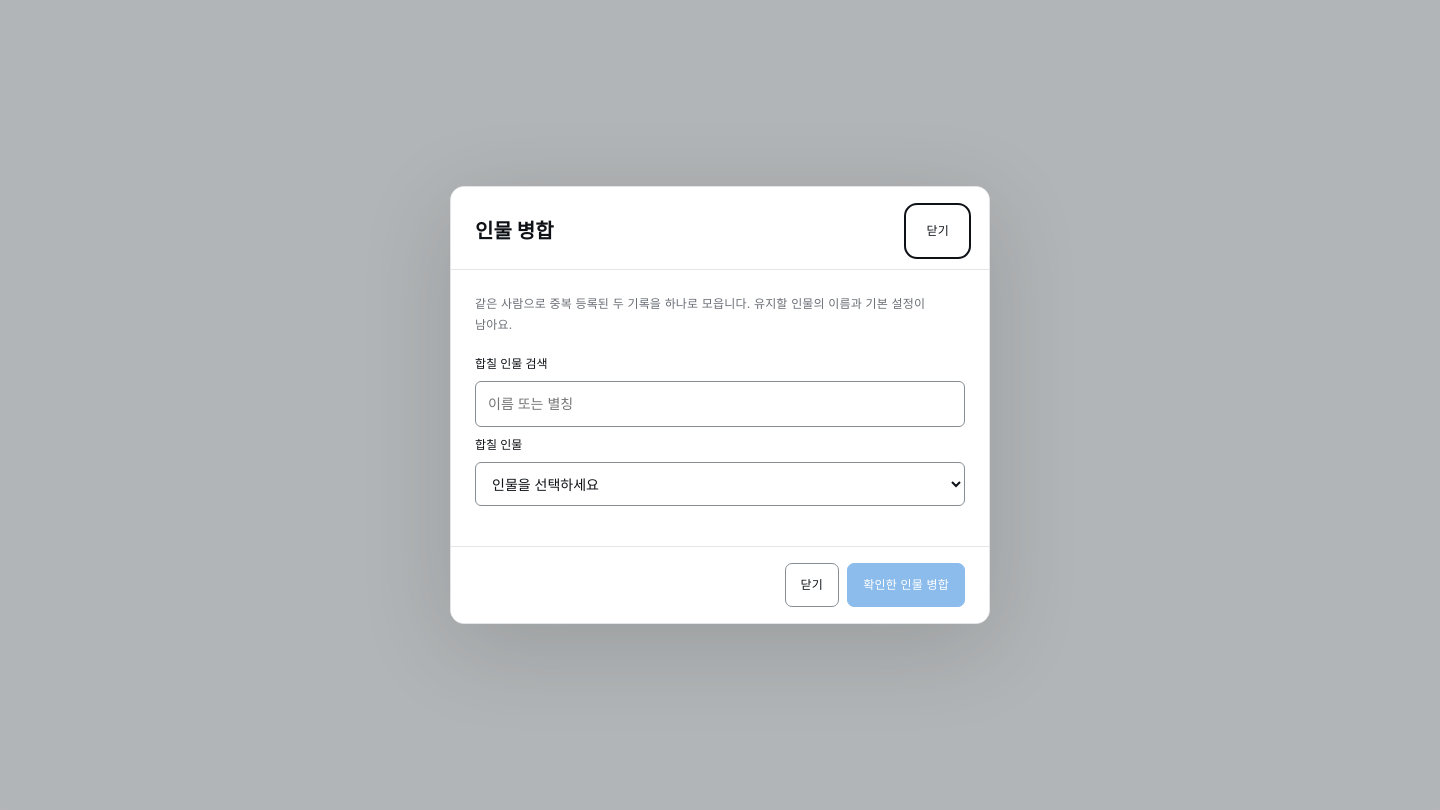
인물 병합 › 미리보기 실패 중에는 병합을 막고 다시 불러온 정보로 확인하게 한다
This screenshot has width=1440, height=810.
Step 1. Select "민지 중복 · person" in the dropdown labelled "합칠 인물" → (720, 484), box [475,462,965,506]
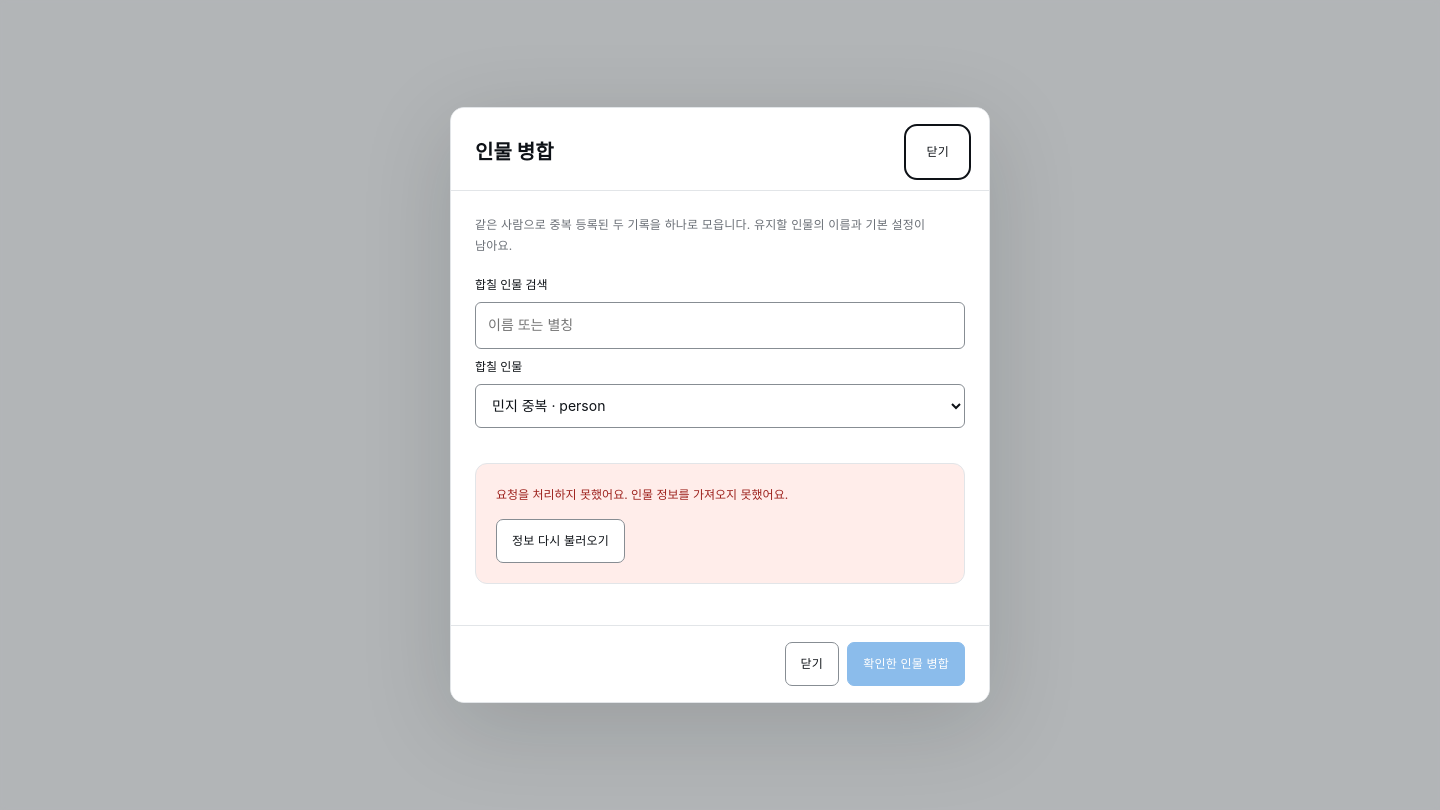
Expected: the button "확인한 인물 병합" is disabled, [847,642,965,686]
Result: the message "요청을 처리하지 못했어요. 인물 정보를 가져오지 못했어요. 정보 다시 불러오기" is shown at [475,463,965,584]
Step 2. Click the button "정보 다시 불러오기" → (561, 541), box [496,519,625,563]
(page scrolled)
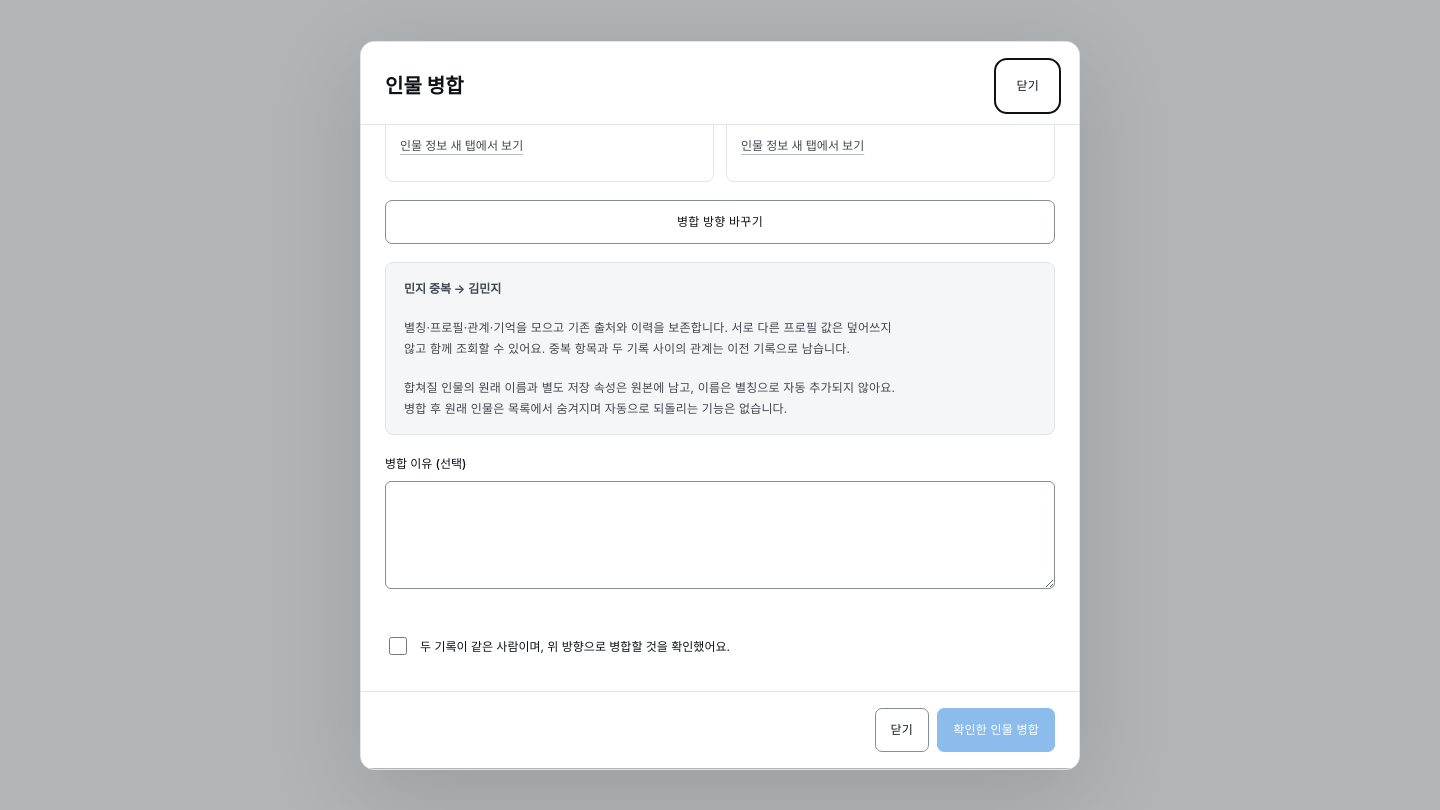
Result: the checkbox is not checked at [389,637,407,655]
